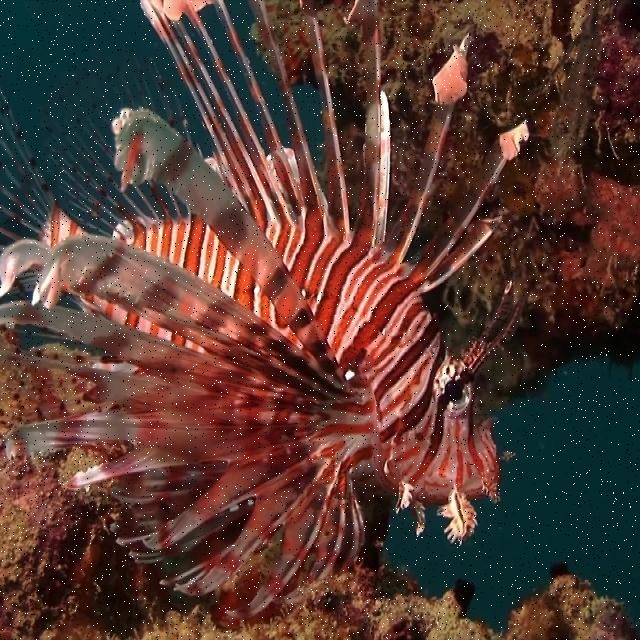fish: (0, 0, 529, 633)
